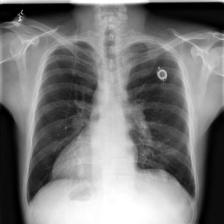normal: (24, 35, 198, 210)
